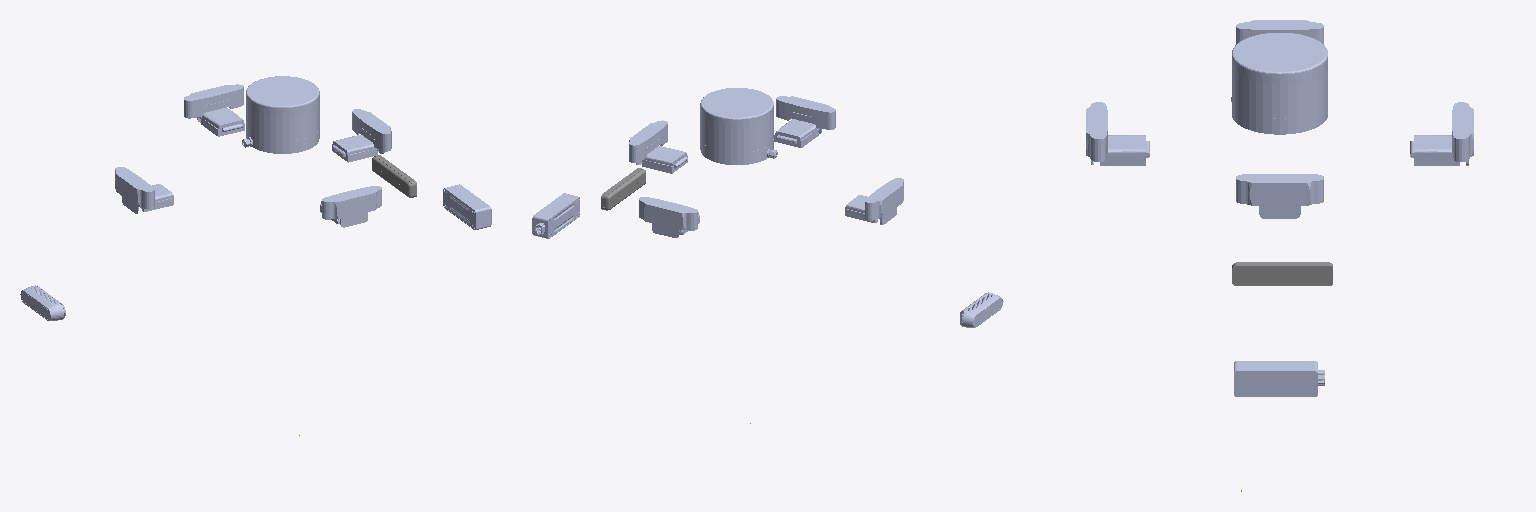
robot.urdf — momo_description:
<?xml version="1.0" encoding="utf-8"?>
<!-- This URDF was automatically created by SolidWorks to URDF Exporter! Originally created by [author] ([email redacted]) 
     Commit Version: 1.6.0-4-g7f85cfe  Build Version: 1.6.7995.38578
     For more information, please see http://wiki.ros.org/sw_urdf_exporter -->
<robot
  name="momo_description">
<link name="base_footprint">
    <visual>
        <origin xyz="0 0 0" rpy="0 0 0" />
        <geometry>
            <box size="0.001 0.001 0.001" />
        </geometry>
    </visual>
</link>

<joint name="base_footprint_joint" type="fixed">
    <origin xyz="0 0 0.001" rpy="0 0 0" />
    <parent link="base_footprint"/>
    <child link="base_link" />
</joint>
  <link
    name="base_link">
    <inertial>
      <origin
        xyz="-0.0224834781318358 0.043147185108824 0.15573045535703"
        rpy="0 0 0" />
      <mass
        value="9.12874381762573" />
      <inertia
        ixx="0.0703209223004399"
        ixy="0.000823792790695999"
        ixz="0.000375834309002579"
        iyy="0.18869975254365"
        iyz="9.82268475527055E-07"
        izz="0.249106966997589" />
    </inertial>
    <visual>
      <origin
        xyz="0 0 0"
        rpy="0 0 0" />
      <geometry>
        <mesh
          filename="package://momo_description/meshes/visual/base_link.STL" />
      </geometry>
      <material
        name="">
        <color
          rgba="0.627450980392157 0.627450980392157 0.627450980392157 1" />
      </material>
    </visual>
    <collision>
      <origin
        xyz="0 0 0"
        rpy="0 0 0" />
      <geometry>
        <mesh
          filename="package://momo_description/meshes/visual/base_link.STL" />
      </geometry>
    </collision>
  </link>
  <link
    name="front_right_wheel">
    <inertial>
      <origin
        xyz="0.00235002849639554 0.00303838901454816 -0.0804375311167912"
        rpy="0 0 0" />
      <mass
        value="0.852354605102217" />
      <inertia
        ixx="0.000906831105798678"
        ixy="9.81283854227688E-07"
        ixz="2.23619743963333E-11"
        iyy="0.000906168386374516"
        iyz="1.91429667110204E-11"
        izz="0.0010693441512525" />
    </inertial>
    <visual>
      <origin
        xyz="0 0 0"
        rpy="0 0 0" />
      <geometry>
        <mesh
          filename="package://momo_description/meshes/visual/front_right_wheel.STL" />
      </geometry>
      <material
        name="">
        <color
          rgba="0.792156862745098 0.819607843137255 0.933333333333333 1" />
      </material>
    </visual>
    <collision>
      <origin
        xyz="0 0 0"
        rpy="0 0 0" />
      <geometry>
        <mesh
          filename="package://momo_description/meshes/visual/front_right_wheel.STL" />
      </geometry>
    </collision>
  </link>
  <joint
    name="front_right_wheel_joint"
    type="continuous">
    <origin
      xyz="0.26849 -0.318 0.059996"
      rpy="1.5708 0 0" />
    <parent
      link="base_link" />
    <child
      link="front_right_wheel" />
    <axis
      xyz="0 0 -1" />
  </joint>
  <link
    name="back_right_wheel">
    <inertial>
      <origin
        xyz="0.00235269913271367 0.00303881239038054 -0.0804375309775529"
        rpy="0 0 0" />
      <mass
        value="0.852354640622838" />
      <inertia
        ixx="0.000907345514266878"
        ixy="-5.98068915940485E-07"
        ixz="-2.00737014070952E-11"
        iyy="0.000905654311384346"
        iyz="8.48507848540578E-12"
        izz="0.00106934438027434" />
    </inertial>
    <visual>
      <origin
        xyz="0 0 0"
        rpy="0 0 0" />
      <geometry>
        <mesh
          filename="package://momo_description/meshes/visual/back_right_wheel.STL" />
      </geometry>
      <material
        name="">
        <color
          rgba="0.792156862745098 0.819607843137255 0.933333333333333 1" />
      </material>
    </visual>
    <collision>
      <origin
        xyz="0 0 0"
        rpy="0 0 0" />
      <geometry>
        <mesh
          filename="package://momo_description/meshes/visual/back_right_wheel.STL" />
      </geometry>
    </collision>
  </link>
  <joint
    name="back_right_wheel_joint"
    type="continuous">
    <origin
      xyz="-0.27349334578749 -0.318000000000002 0.0599978846492716"
      rpy="1.5707963267949 0 0" />
    <parent
      link="base_link" />
    <child
      link="back_right_wheel" />
    <axis
      xyz="0 0 -1" />
  </joint>
  <link
    name="back_left_wheel">
    <inertial>
      <origin
        xyz="0.00235100431678491 0.00303777971566161 -0.00243588226510427"
        rpy="0 0 0" />
      <mass
        value="0.85235460510222" />
      <inertia
        ixx="0.000905522012701922"
        ixy="3.41693853969475E-07"
        ixz="-7.38335769311773E-12"
        iyy="0.000907477479471278"
        iyz="-2.84955602367874E-11"
        izz="0.00106934415125251" />
    </inertial>
    <visual>
      <origin
        xyz="0 0 0"
        rpy="0 0 0" />
      <geometry>
        <mesh
          filename="package://momo_description/meshes/visual/back_left_wheel.STL" />
      </geometry>
      <material
        name="">
        <color
          rgba="0.792156862745098 0.819607843137255 0.933333333333333 1" />
      </material>
    </visual>
    <collision>
      <origin
        xyz="0 0 0"
        rpy="0 0 0" />
      <geometry>
        <mesh
          filename="package://momo_description/meshes/visual/back_left_wheel.STL" />
      </geometry>
    </collision>
  </link>
  <joint
    name="back_left_wheel_joint"
    type="continuous">
    <origin
      xyz="-0.273501168246142 0.318000000000003 0.0599931160727954"
      rpy="1.5707963267949 0 0" />
    <parent
      link="base_link" />
    <child
      link="back_left_wheel" />
    <axis
      xyz="0 0 -1" />
  </joint>
  <link
    name="front_left_wheel">
    <inertial>
      <origin
        xyz="0.00234975130658399 0.00303912478874915 -0.00243588240434497"
        rpy="0 0 0" />
      <mass
        value="0.852354640622848" />
      <inertia
        ixx="0.000907516356656273"
        ixy="1.98922509533706E-07"
        ixz="-2.1406272773239E-11"
        iyy="0.000905483468994953"
        iyz="-4.08920321728966E-12"
        izz="0.00106934438027433" />
    </inertial>
    <visual>
      <origin
        xyz="0 0 0"
        rpy="0 0 0" />
      <geometry>
        <mesh
          filename="package://momo_description/meshes/visual/front_left_wheel.STL" />
      </geometry>
      <material
        name="">
        <color
          rgba="0.792156862745098 0.819607843137255 0.933333333333333 1" />
      </material>
    </visual>
    <collision>
      <origin
        xyz="0 0 0"
        rpy="0 0 0" />
      <geometry>
        <mesh
          filename="package://momo_description/meshes/visual/front_left_wheel.STL" />
      </geometry>
    </collision>
  </link>
  <joint
    name="front_left_wheel_joint"
    type="continuous">
    <origin
      xyz="0.268493050220139 0.317999999999998 0.0599993263438537"
      rpy="1.5707963267949 0 0" />
    <parent
      link="base_link" />
    <child
      link="front_left_wheel" />
    <axis
      xyz="0 0 -1" />
  </joint>
  <link
    name="front_logitech">
    <inertial>
      <origin
        xyz="-0.000100619366527013 0.00868433169256161 -0.0237131147679362"
        rpy="0 0 0" />
      <mass
        value="0.0873967458266508" />
      <inertia
        ixx="3.99321306212914E-05"
        ixy="-2.39081067841113E-08"
        ixz="-7.19738531428668E-08"
        iyy="6.41203019340331E-05"
        iyz="1.1807193889875E-05"
        izz="5.08960858757451E-05" />
    </inertial>
    <visual>
      <origin
        xyz="0 0 0"
        rpy="0 0 0" />
      <geometry>
        <mesh
          filename="package://momo_description/meshes/visual/front_logitech.STL" />
      </geometry>
      <material
        name="">
        <color
          rgba="0.792156862745098 0.819607843137255 0.933333333333333 1" />
      </material>
    </visual>
    <collision>
      <origin
        xyz="0 0 0"
        rpy="0 0 0" />
      <geometry>
        <mesh
          filename="package://momo_description/meshes/visual/front_logitech.STL" />
      </geometry>
    </collision>
  </link>
  <joint
    name="front_logitech_joint"
    type="fixed">
    <origin
      xyz="0.154732757253638 0.0412775530270625 0.418952968841513"
      rpy="-1.5707963267949 0 -1.5707963267949" />
    <parent
      link="base_link" />
    <child
      link="front_logitech" />
    <axis
      xyz="0 0 0" />
  </joint>
  <link
    name="right_logitech">
    <inertial>
      <origin
        xyz="-0.000100619366454141 0.00868433169256244 -0.0237131147679361"
        rpy="0 0 0" />
      <mass
        value="0.0873967458266508" />
      <inertia
        ixx="3.99321306212963E-05"
        ixy="-2.39081065814224E-08"
        ixz="-7.19738530417854E-08"
        iyy="6.41203019340384E-05"
        iyz="1.18071938898757E-05"
        izz="5.08960858757447E-05" />
    </inertial>
    <visual>
      <origin
        xyz="0 0 0"
        rpy="0 0 0" />
      <geometry>
        <mesh
          filename="package://momo_description/meshes/visual/right_logitech.STL" />
      </geometry>
      <material
        name="">
        <color
          rgba="0.792156862745098 0.819607843137255 0.933333333333333 1" />
      </material>
    </visual>
    <collision>
      <origin
        xyz="0 0 0"
        rpy="0 0 0" />
      <geometry>
        <mesh
          filename="package://momo_description/meshes/visual/right_logitech.STL" />
      </geometry>
    </collision>
  </link>
  <joint
    name="right_logitech_joint"
    type="fixed">
    <origin
      xyz="-0.00257639641022331 -0.165213293309076 0.418952968841513"
      rpy="-1.5707963267949 0 3.14159265358979" />
    <parent
      link="base_link" />
    <child
      link="right_logitech" />
    <axis
      xyz="0 0 0" />
  </joint>
  <link
    name="back_logitech">
    <inertial>
      <origin
        xyz="-0.000100619366527027 0.00868433169256172 -0.0237131147679362"
        rpy="0 0 0" />
      <mass
        value="0.0873967458266511" />
      <inertia
        ixx="3.99321306212934E-05"
        ixy="-2.39081067841115E-08"
        ixz="-7.19738531417099E-08"
        iyy="6.41203019340351E-05"
        iyz="1.18071938898751E-05"
        izz="5.08960858757451E-05" />
    </inertial>
    <visual>
      <origin
        xyz="0 0 0"
        rpy="0 0 0" />
      <geometry>
        <mesh
          filename="package://momo_description/meshes/visual/back_logitech.STL" />
      </geometry>
      <material
        name="">
        <color
          rgba="0.792156862745098 0.819607843137255 0.933333333333333 1" />
      </material>
    </visual>
    <collision>
      <origin
        xyz="0 0 0"
        rpy="0 0 0" />
      <geometry>
        <mesh
          filename="package://momo_description/meshes/visual/back_logitech.STL" />
      </geometry>
    </collision>
  </link>
  <joint
    name="back_logitech_joint"
    type="fixed">
    <origin
      xyz="-0.254567242746362 0.0415958603547848 0.418952968841513"
      rpy="-1.5707963267949 0 1.5707963267949" />
    <parent
      link="base_link" />
    <child
      link="back_logitech" />
    <axis
      xyz="0 0 0" />
  </joint>
  <link
    name="left_logitech">
    <inertial>
      <origin
        xyz="-0.000100619366454391 0.0086843316925625 -0.0237131147679363"
        rpy="0 0 0" />
      <mass
        value="0.0873967458266511" />
      <inertia
        ixx="3.99321306212903E-05"
        ixy="-2.39081065815171E-08"
        ixz="-7.19738530421334E-08"
        iyy="6.41203019340324E-05"
        iyz="1.18071938898756E-05"
        izz="5.08960858757447E-05" />
    </inertial>
    <visual>
      <origin
        xyz="0 0 0"
        rpy="0 0 0" />
      <geometry>
        <mesh
          filename="package://momo_description/meshes/visual/left_logitech.STL" />
      </geometry>
      <material
        name="">
        <color
          rgba="0.792156862745098 0.819607843137255 0.933333333333333 1" />
      </material>
    </visual>
    <collision>
      <origin
        xyz="0 0 0"
        rpy="0 0 0" />
      <geometry>
        <mesh
          filename="package://momo_description/meshes/visual/left_logitech.STL" />
      </geometry>
    </collision>
  </link>
  <joint
    name="left_logitech_joint"
    type="fixed">
    <origin
      xyz="-0.00225808908250899 0.248086706690936 0.418952968841515"
      rpy="-1.5707963267949 0 0" />
    <parent
      link="base_link" />
    <child
      link="left_logitech" />
    <axis
      xyz="0 0 0" />
  </joint>
  <link
    name="velodyne">
    <inertial>
      <origin
        xyz="-3.2878099134187E-06 -0.000102126009981357 -0.00210332117212092"
        rpy="0 0 0" />
      <mass
        value="0.605610123538718" />
      <inertia
        ixx="0.000670924573306349"
        ixy="-5.82638316928472E-12"
        ixz="-6.67755541756334E-08"
        iyy="0.000667040687285356"
        iyz="-1.81285167753324E-06"
        izz="0.000804073760064738" />
    </inertial>
    <visual>
      <origin
        xyz="0 0 0"
        rpy="0 0 0" />
      <geometry>
        <mesh
          filename="package://momo_description/meshes/visual/lidar.STL" />
      </geometry>
      <material
        name="">
        <color
          rgba="0.792156862745098 0.819607843137255 0.933333333333333 1" />
      </material>
    </visual>
    <collision>
      <origin
        xyz="0 0 0"
        rpy="0 0 0" />
      <geometry>
        <mesh
          filename="package://momo_description/meshes/visual/lidar.STL" />
      </geometry>
    </collision>
  </link>
  <joint
    name="lidar_joint"
    type="fixed">
    <origin
      xyz="-0.00241706738442254 0.0414368820528667 0.478357617954853"
      rpy="0 0 -1.5707963267949" />
    <parent
      link="base_link" />
    <child
      link="velodyne" />
    <axis
      xyz="0 0 0" />
  </joint>
  <link
    name="realsense_t265">
    <inertial>
      <origin
        xyz="0.000129462657322346 -1.57181139381901E-07 -0.00601066388944044"
        rpy="0 0 0" />
      <mass
        value="0.0311240910368595" />
      <inertia
        ixx="1.83337825677375E-06"
        ixy="-2.85176636894001E-10"
        ixz="-7.81020859395691E-09"
        iyy="2.96344209179022E-05"
        iyz="1.3923224154143E-11"
        izz="3.06979172999491E-05" />
    </inertial>
    <visual>
      <origin
        xyz="0 0 0"
        rpy="0 0 0" />
      <geometry>
        <mesh
          filename="package://momo_description/meshes/visual/realsense_t265.STL" />
      </geometry>
      <material
        name="">
        <color
          rgba="0.627450980392157 0.627450980392157 0.627450980392157 1" />
      </material>
    </visual>
    <collision>
      <origin
        xyz="0 0 0"
        rpy="0 0 0" />
      <geometry>
        <mesh
          filename="package://momo_description/meshes/visual/realsense_t265.STL" />
      </geometry>
    </collision>
  </link>
  <joint
    name="realsense_t265_joint"
    type="fixed">
    <origin
      xyz="0.184822757253643 0.0443427066909039 0.337457617954855"
      rpy="-1.5707963267949 0 -1.5707963267949" />
    <parent
      link="base_link" />
    <child
      link="realsense_t265" />
    <axis
      xyz="0 0 0" />
  </joint>
  <link
    name="realsense_d435i">
    <inertial>
      <origin
        xyz="-0.000995206394463141 2.7881471328095E-05 -0.0125659497249071"
        rpy="0 0 0" />
      <mass
        value="0.0457663452618203" />
      <inertia
        ixx="4.14998076783152E-06"
        ixy="-1.50844318927118E-09"
        ixz="-4.10538526085445E-07"
        iyy="2.78843613995507E-05"
        iyz="-7.38862868090377E-09"
        izz="2.75878432161684E-05" />
    </inertial>
    <visual>
      <origin
        xyz="0 0 0"
        rpy="0 0 0" />
      <geometry>
        <mesh
          filename="package://momo_description/meshes/visual/realsense_d435i.STL" />
      </geometry>
      <material
        name="">
        <color
          rgba="0.792156862745098 0.819607843137255 0.933333333333333 1" />
      </material>
    </visual>
    <collision>
      <origin
        xyz="0 0 0"
        rpy="0 0 0" />
      <geometry>
        <mesh
          filename="package://momo_description/meshes/visual/realsense_d435i.STL" />
      </geometry>
    </collision>
  </link>
  <joint
    name="realsense_d435i_joint"
    type="fixed">
    <origin
      xyz="-0.404814742746363 0.0344707026853986 0.279039270865987"
      rpy="-1.5707963267949 0 1.5707963267949" />
    <parent
      link="base_link" />
    <child
      link="realsense_d435i" />
    <axis
      xyz="0 0 0" />
  </joint>
  <link
    name="ifm_camera">
    <inertial>
      <origin
        xyz="-0.0227481615945184 3.06773217939593E-11 -0.0127352941193509"
        rpy="0 0 0" />
      <mass
        value="0.0711675681323896" />
      <inertia
        ixx="9.48525117222579E-06"
        ixy="1.49142424517477E-13"
        ixz="-6.00059122328344E-08"
        iyy="5.23565081343951E-05"
        iyz="-8.51988151121233E-15"
        izz="5.41536530687776E-05" />
    </inertial>
    <visual>
      <origin
        xyz="0 0 0"
        rpy="0 0 0" />
      <geometry>
        <mesh
          filename="package://momo_description/meshes/visual/ifm_camera.STL" />
      </geometry>
      <material
        name="">
        <color
          rgba="0.792156862745098 0.819607843137255 0.933333333333333 1" />
      </material>
    </visual>
    <collision>
      <origin
        xyz="0 0 0"
        rpy="0 0 0" />
      <geometry>
        <mesh
          filename="package://momo_description/meshes/visual/ifm_camera.STL" />
      </geometry>
    </collision>
  </link>
  <joint
    name="ifm_camera_joint"
    type="fixed">
    <origin
      xyz="0.30569 0.014587 0.26684"
      rpy="-1.5708 0 -1.5708" />
    <parent
      link="base_link" />
    <child
      link="ifm_camera" />
    <axis
      xyz="0 0 0" />
  </joint>
</robot>

--- What the picture shows (computed from the rendered views, not written in the file) ---
3 views of the same robot in one strip: view 1: azimuth 30°, elevation 25°; view 2: azimuth 150°, elevation 25°; view 3: azimuth 270°, elevation 25° (orthographic).
Robot: momo_description — 14 links, 13 joints (4 continuous, 9 fixed); root link base_footprint; default pose: every joint at zero.
Visible links, largest first — view 1: velodyne, left_logitech, front_logitech, right_logitech, back_logitech, ifm_camera, realsense_d435i, realsense_t265; view 2: velodyne, right_logitech, front_logitech, left_logitech, back_logitech, ifm_camera, realsense_d435i, realsense_t265; view 3: velodyne, front_logitech, ifm_camera, left_logitech, right_logitech, realsense_t265, back_logitech.
Boxes of the visible links, x1,y1,x2,y2 form: velodyne: (242, 76, 319, 153); left_logitech: (184, 84, 244, 136); front_logitech: (332, 109, 391, 162); right_logitech: (320, 186, 381, 227); back_logitech: (115, 167, 173, 213); ifm_camera: (443, 184, 491, 229); realsense_d435i: (20, 285, 65, 320); realsense_t265: (372, 155, 416, 197); velodyne: (700, 88, 777, 164); right_logitech: (774, 96, 835, 147); front_logitech: (629, 120, 687, 173); left_logitech: (639, 197, 699, 237); back_logitech: (845, 178, 903, 224); ifm_camera: (532, 193, 579, 238); realsense_d435i: (960, 292, 1003, 327); realsense_t265: (601, 168, 645, 210); velodyne: (1232, 33, 1327, 134); front_logitech: (1236, 174, 1323, 218); ifm_camera: (1234, 361, 1324, 396); left_logitech: (1410, 102, 1473, 165); right_logitech: (1086, 102, 1149, 165); realsense_t265: (1232, 262, 1332, 285); back_logitech: (1236, 20, 1323, 43).
Bounding box of the posed robot: 0.7106 × 0.4133 × 0.5142 m (x, y, z).
Meshes: 13 distinct files referenced, 8 mesh visuals loaded (8 binary STL); not drawn: 5 (reference not matched to a file when rendering).
